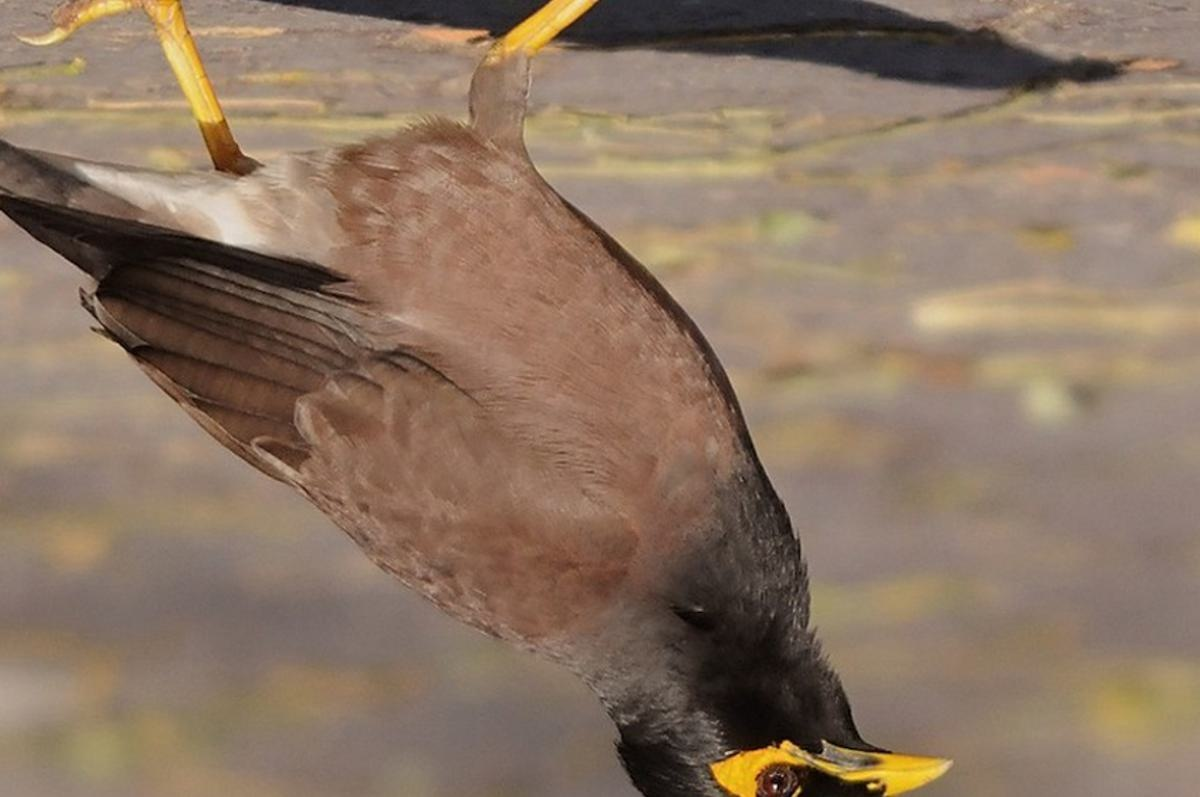myna: (1, 1, 966, 792)
